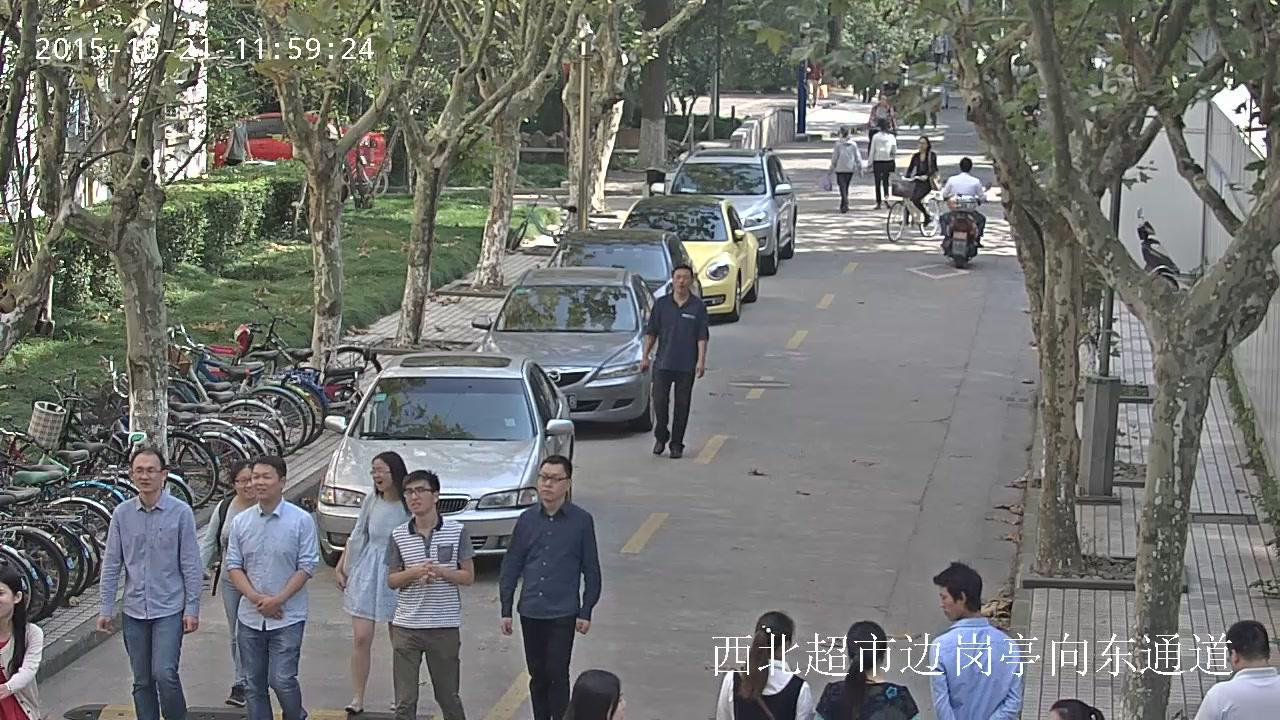face: (131, 453, 160, 492), (538, 463, 566, 499), (252, 464, 279, 500), (404, 481, 433, 512), (608, 682, 627, 720), (940, 585, 959, 620), (372, 459, 392, 490), (235, 469, 251, 500), (672, 269, 691, 292), (1, 583, 11, 618), (918, 137, 927, 152), (880, 95, 888, 106), (865, 42, 870, 51)
